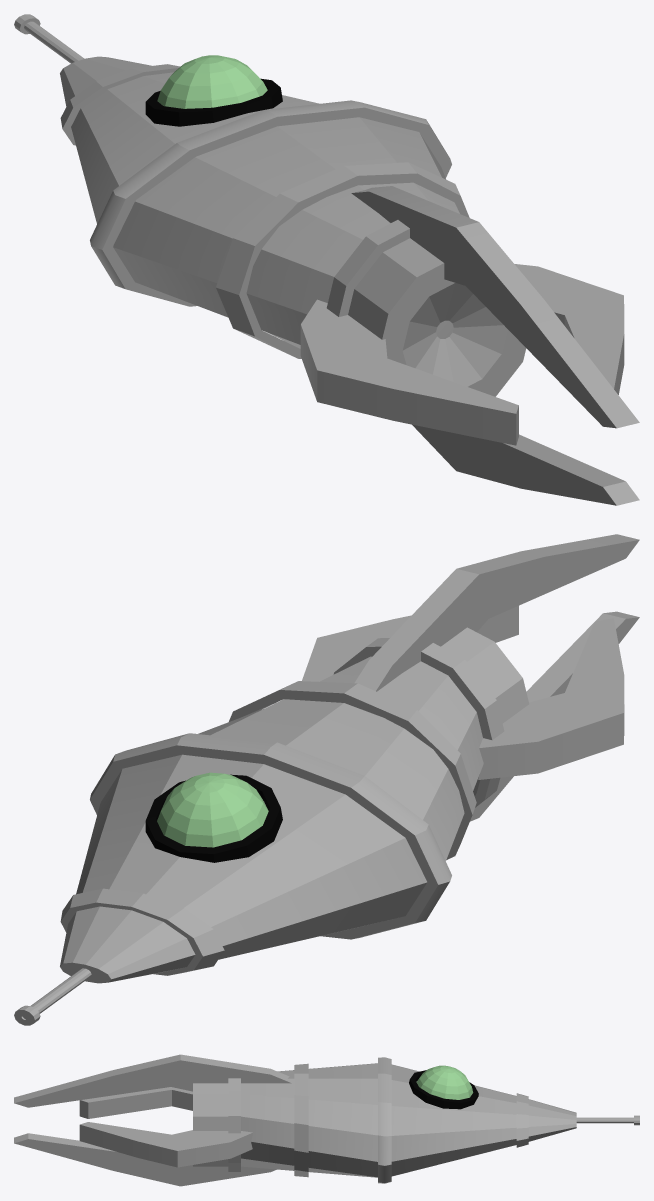
The model's file is EnemyRocket_02.fbx.
3 renders of one model, top to bottom at view 1: azimuth 30°, elevation 25°; view 2: azimuth 150°, elevation 25°; view 3: azimuth 270°, elevation 25°, orthographic. The views are drawn at different scales.
Visible parts, largest first — view 1: EnemyBody, Tip, pCube4, pCube3, Belt_Mid, Belt_Botmid, pCube2, pCube5, Window, Belt_Bot, Ring, polySurface24 (+1 smaller); view 2: EnemyBody, pCube4, pCube3, Belt_Mid, polySurface24, Window, Belt_Botmid, Tip, Belt_Top, pCube5, Belt_Bot, Ring (+1 smaller); view 3: EnemyBody, pCube4, pCube5, pCube2, Tip, pCube3, Belt_Mid, Belt_Botmid, polySurface24, Window, Belt_Bot, Ring (+1 smaller).
Boxes of the visible parts, x1,y1,x2,y2 form: EnemyBody: [71, 72, 459, 348]; Tip: [14, 14, 526, 396]; pCube4: [351, 186, 639, 428]; pCube3: [300, 299, 518, 445]; Belt_Mid: [90, 100, 451, 306]; Belt_Botmid: [216, 162, 469, 358]; pCube2: [412, 424, 639, 505]; pCube5: [514, 264, 624, 394]; Window: [157, 55, 267, 108]; Belt_Bot: [326, 220, 409, 316]; Ring: [145, 78, 282, 126]; polySurface24: [60, 56, 151, 106]; EnemyBody: [76, 656, 483, 959]; pCube4: [354, 534, 639, 691]; pCube3: [478, 618, 624, 779]; Belt_Mid: [90, 733, 451, 939]; polySurface24: [60, 906, 195, 983]; Window: [157, 772, 268, 847]; Belt_Botmid: [229, 681, 476, 859]; Tip: [14, 627, 529, 1025]; Belt_Top: [60, 888, 224, 975]; pCube5: [302, 605, 518, 681]; Belt_Bot: [333, 638, 504, 807]; Ring: [145, 774, 282, 862]; EnemyBody: [241, 1063, 516, 1177]; pCube4: [14, 1054, 291, 1107]; pCube5: [79, 1122, 252, 1167]; pCube2: [14, 1133, 276, 1186]; Tip: [193, 1083, 639, 1166]; pCube3: [79, 1087, 192, 1118]; Belt_Mid: [378, 1057, 391, 1183]; Belt_Botmid: [294, 1063, 308, 1177]; polySurface24: [528, 1099, 576, 1141]; Window: [416, 1065, 473, 1099]; Belt_Bot: [228, 1078, 240, 1171]; Ring: [409, 1070, 478, 1109].
Bounding box in the file's own units: 4.54 × 2.94 × 13.21.
